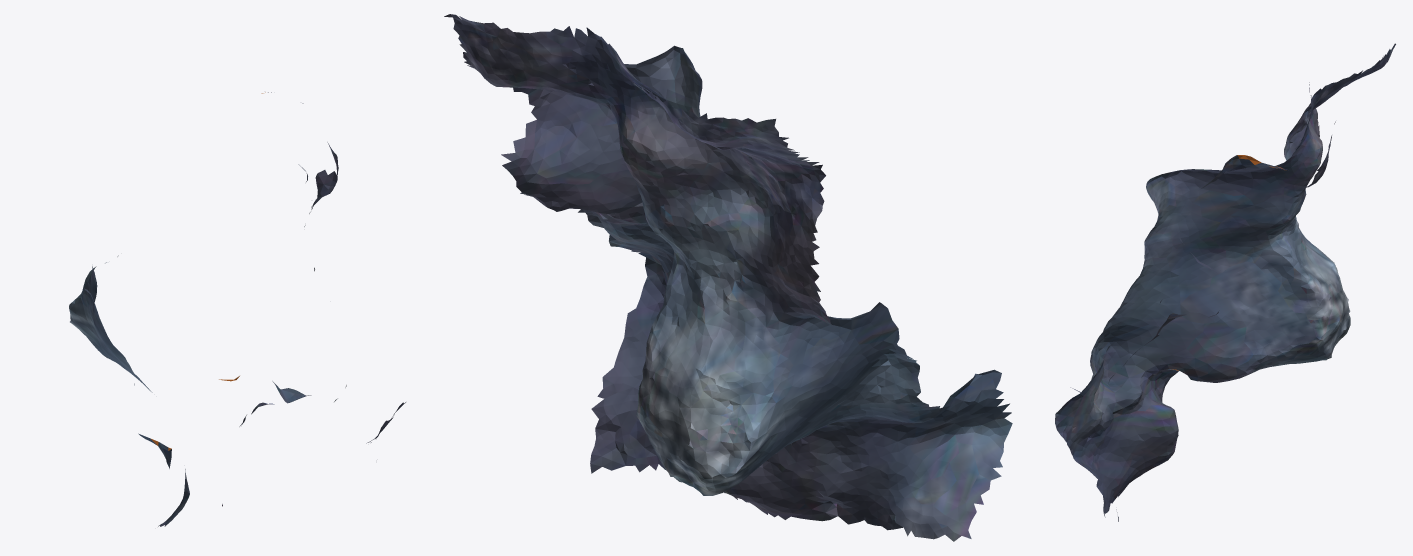
Rendered from tile_0284.gltf.
The picture shows the model from 3 angles, left to right: view 1: azimuth 30°, elevation 25°; view 2: azimuth 150°, elevation 25°; view 3: azimuth 270°, elevation 25°; orthographic projection. The views are drawn at different scales.
Visible parts, largest first — view 1: defaultobject; view 2: defaultobject; view 3: defaultobject.
Part boxes in pixels (bbox=[...]): defaultobject: bbox=[69, 92, 405, 526]; defaultobject: bbox=[444, 14, 1012, 541]; defaultobject: bbox=[1055, 43, 1395, 521].
Size of the model in its own units: 0.2322 by 0.3443 by 0.2745.
1 material, 1 textured.
